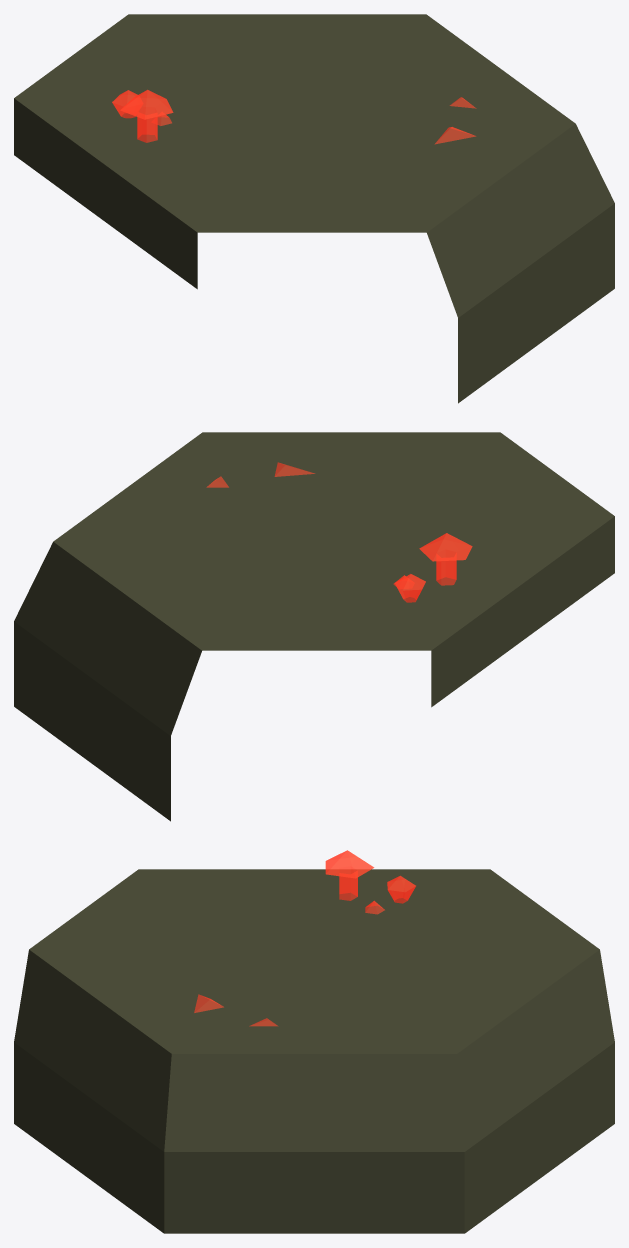
File: nearpointUnit6(3).fbx
The picture shows the model from 3 angles, top to bottom: view 1: azimuth 30°, elevation 25°; view 2: azimuth 150°, elevation 25°; view 3: azimuth 270°, elevation 25°; orthographic projection. The views are drawn at different scales.
Parts seen in each view (by area): view 1: nearpointUnit6(3); view 2: nearpointUnit6(3); view 3: nearpointUnit6(3).
Part boxes in pixels (x1,y1,x2,y2): nearpointUnit6(3): (14, 14, 614, 403); nearpointUnit6(3): (14, 432, 614, 821); nearpointUnit6(3): (14, 850, 614, 1233).
Bounding box in the file's own units: 1.58 × 2 × 0.7714.
